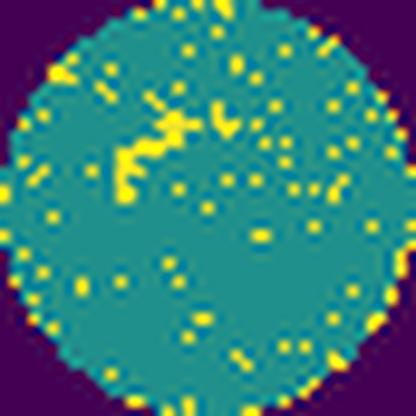Loc: (114, 108, 202, 202)
